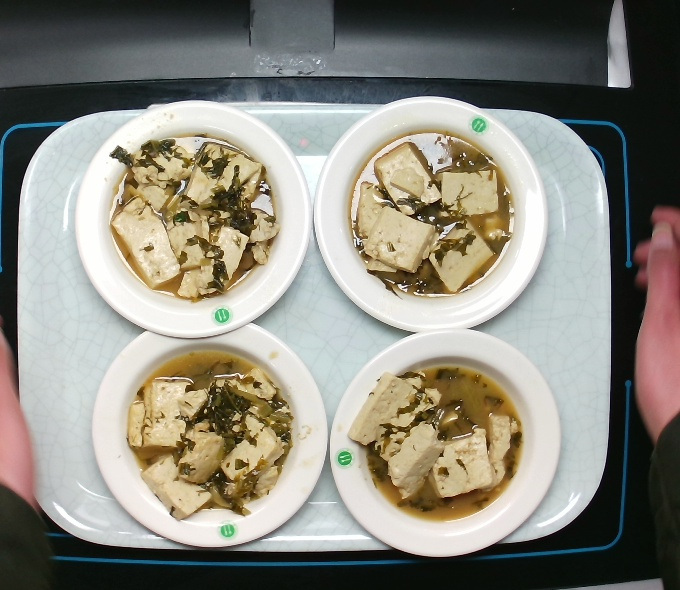wcq-XueCaiDouFu: (121, 344, 295, 522), (346, 357, 527, 524), (104, 132, 279, 303), (347, 128, 516, 302)
